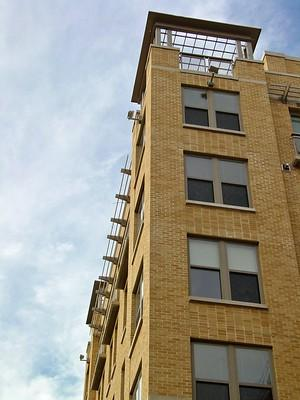building: (81, 7, 300, 400)
